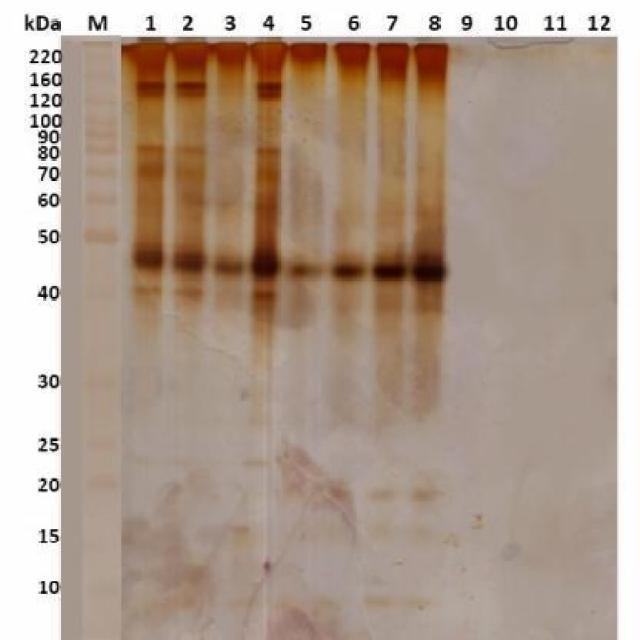B: (248, 251, 282, 280), (132, 249, 166, 271), (172, 252, 206, 274), (409, 264, 449, 282), (371, 261, 406, 281), (328, 262, 366, 280), (134, 162, 164, 180), (289, 262, 322, 278), (172, 164, 205, 180), (212, 260, 245, 274), (133, 78, 167, 91), (254, 168, 282, 182), (172, 288, 202, 300), (131, 91, 167, 100), (172, 80, 208, 89), (250, 289, 278, 300), (252, 202, 280, 213), (172, 90, 210, 98), (253, 146, 282, 156), (133, 284, 162, 294), (172, 145, 206, 153), (254, 81, 284, 90), (134, 143, 164, 152), (254, 90, 283, 98)
M: (75, 34, 123, 640)
P: (80, 227, 120, 246), (82, 374, 118, 392), (82, 476, 118, 492), (83, 434, 117, 450), (82, 192, 118, 206), (82, 142, 118, 156), (83, 94, 117, 108), (83, 166, 117, 179), (82, 128, 118, 140), (83, 114, 117, 126), (83, 290, 117, 302), (84, 73, 116, 82), (81, 53, 114, 59)
Pc: (414, 42, 451, 86), (123, 39, 171, 70), (376, 42, 410, 84), (288, 40, 330, 72), (332, 40, 374, 72), (248, 40, 289, 72), (172, 40, 211, 71), (214, 41, 248, 70), (77, 36, 116, 49)
